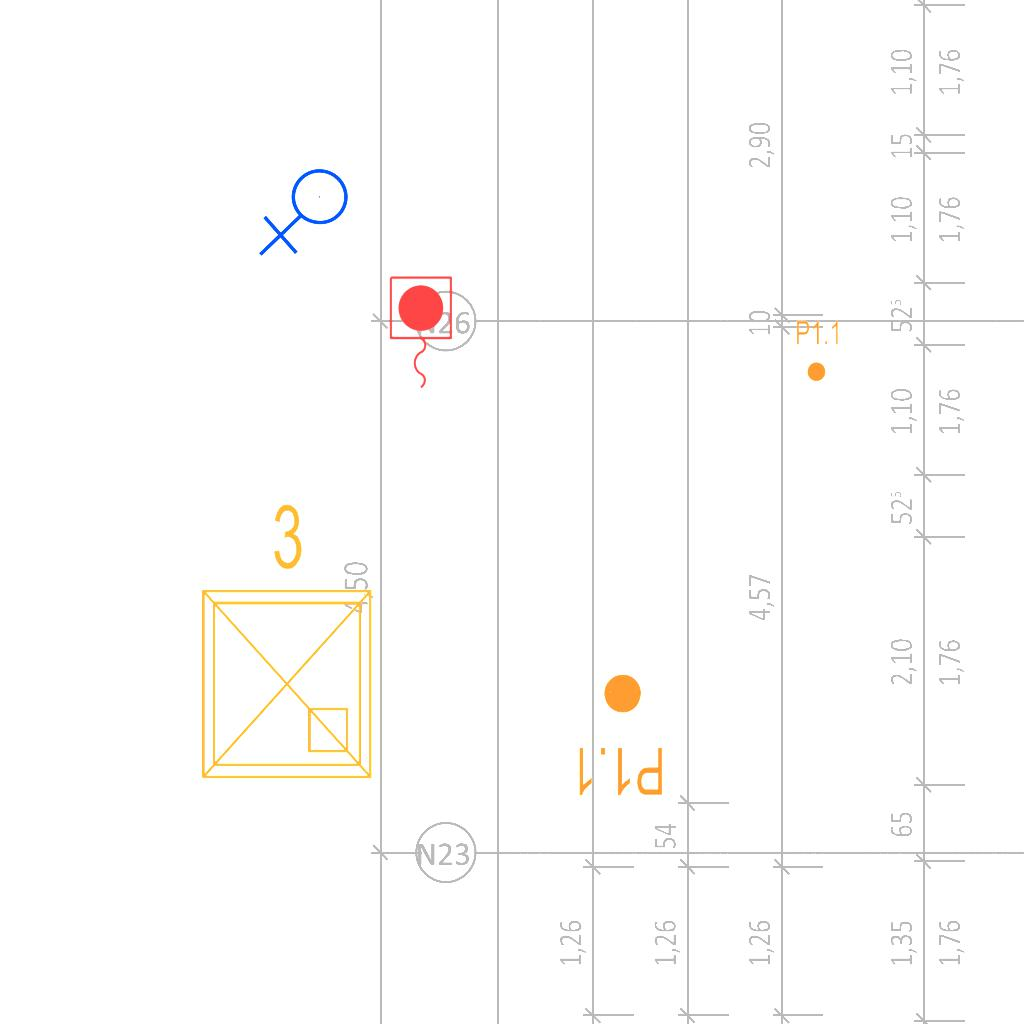Downlight_LED_Einbauleuchten_Flur: (573, 671, 666, 799), (795, 319, 841, 383)
Einbaudownlights_LED_Konferenzraeume: (179, 493, 387, 793)
Elektroanschluss_allgemein_230V_Geraeteanschlussdose_230V: (258, 167, 357, 261)
Zugtaster: (384, 272, 456, 394)
